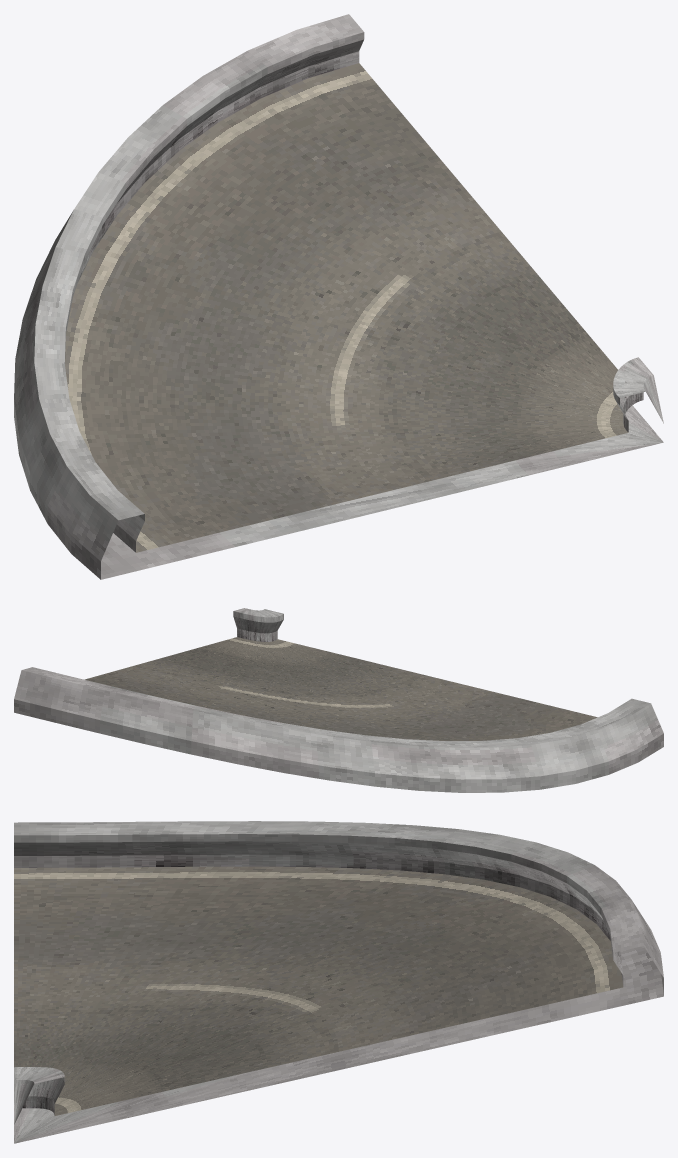
The model's file is turn-right1x1.glb.
3 views of the same model, one above another, from view 1: azimuth 30°, elevation 25°; view 2: azimuth 150°, elevation 25°; view 3: azimuth 270°, elevation 25° (orthographic). The views are drawn at different scales.
Visible parts, largest first — view 1: road-Turn-Flat-HalfBankedRight-Even-Right-Size1; view 2: road-Turn-Flat-HalfBankedRight-Even-Right-Size1; view 3: road-Turn-Flat-HalfBankedRight-Even-Right-Size1.
Part boxes in pixels (box(x1,y1,x2,y2)): road-Turn-Flat-HalfBankedRight-Even-Right-Size1: box(14, 14, 663, 579); road-Turn-Flat-HalfBankedRight-Even-Right-Size1: box(14, 608, 663, 792); road-Turn-Flat-HalfBankedRight-Even-Right-Size1: box(14, 821, 663, 1143).
Bounding box in the file's own units: 1 × 0.3359 × 1.
2 materials, 2 textured.
